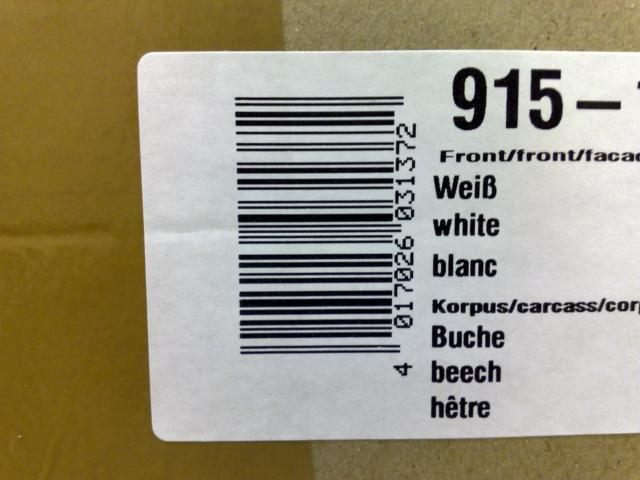Barcode: (218, 77, 428, 389)
